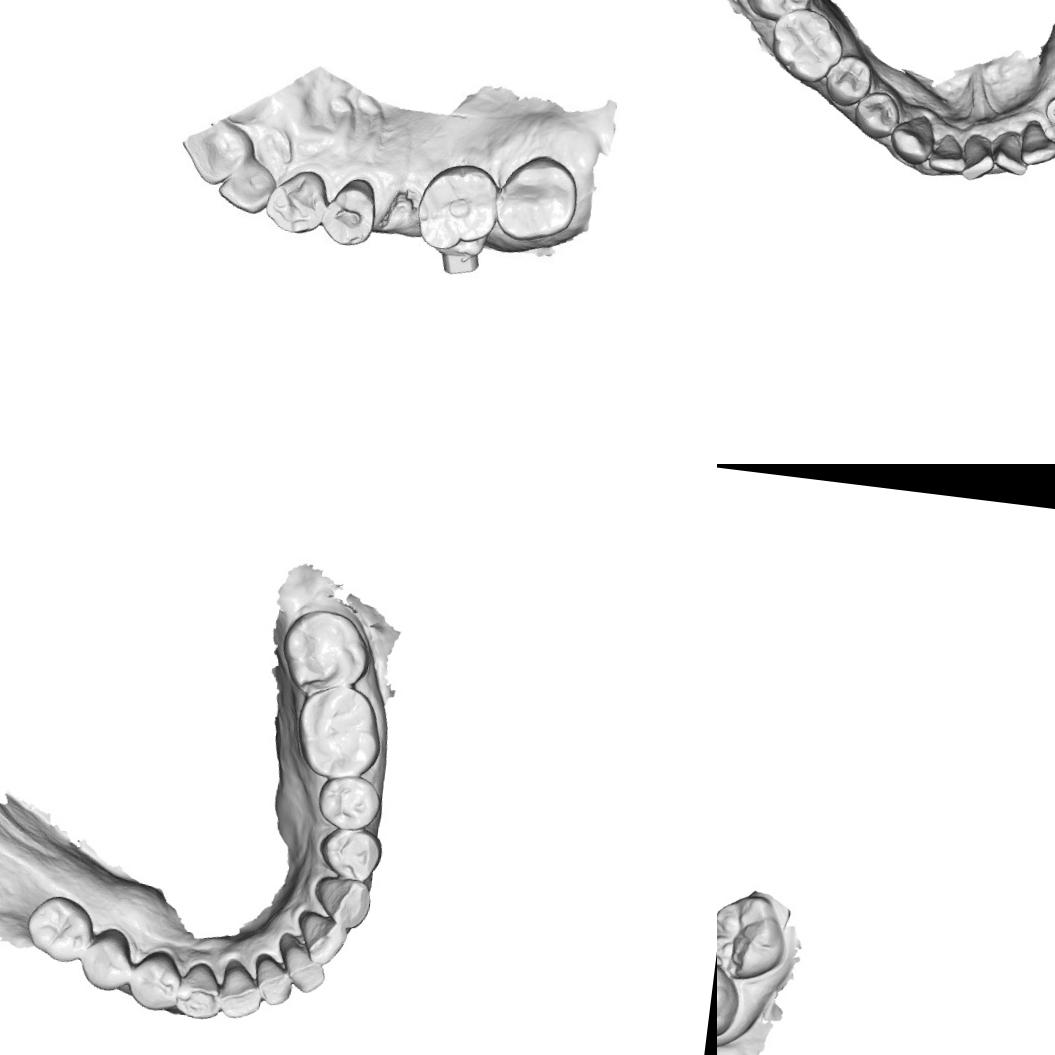canine: (263, 162, 332, 238), (310, 870, 374, 933), (172, 958, 228, 1024), (886, 109, 938, 168)
implant_plus: (1043, 94, 1055, 127)
incisor: (178, 118, 252, 192), (290, 909, 354, 972), (272, 932, 330, 997), (216, 957, 268, 1023), (214, 167, 278, 218), (246, 952, 298, 1009), (989, 128, 1032, 178), (925, 131, 970, 176), (958, 133, 998, 183), (1016, 118, 1055, 169)
molar: (292, 679, 386, 783), (410, 154, 504, 256), (277, 604, 374, 697), (494, 152, 582, 247), (717, 890, 790, 985), (766, 4, 848, 86), (23, 890, 98, 967), (717, 954, 743, 1043), (736, 0, 818, 25)
premolar: (313, 771, 387, 834), (76, 922, 136, 996), (313, 824, 386, 884), (320, 178, 378, 252), (122, 948, 181, 1016), (820, 50, 876, 110), (851, 87, 903, 142)
